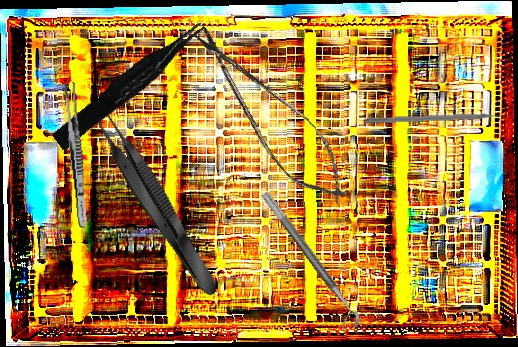Chopper: (364, 112, 513, 132)
Dressing Forceps: (61, 81, 91, 229)
Fixation Ring: (250, 190, 364, 335)
Micro Scissor: (174, 11, 366, 220)
Tissue Forceps: (85, 103, 226, 303), (46, 18, 215, 152)
